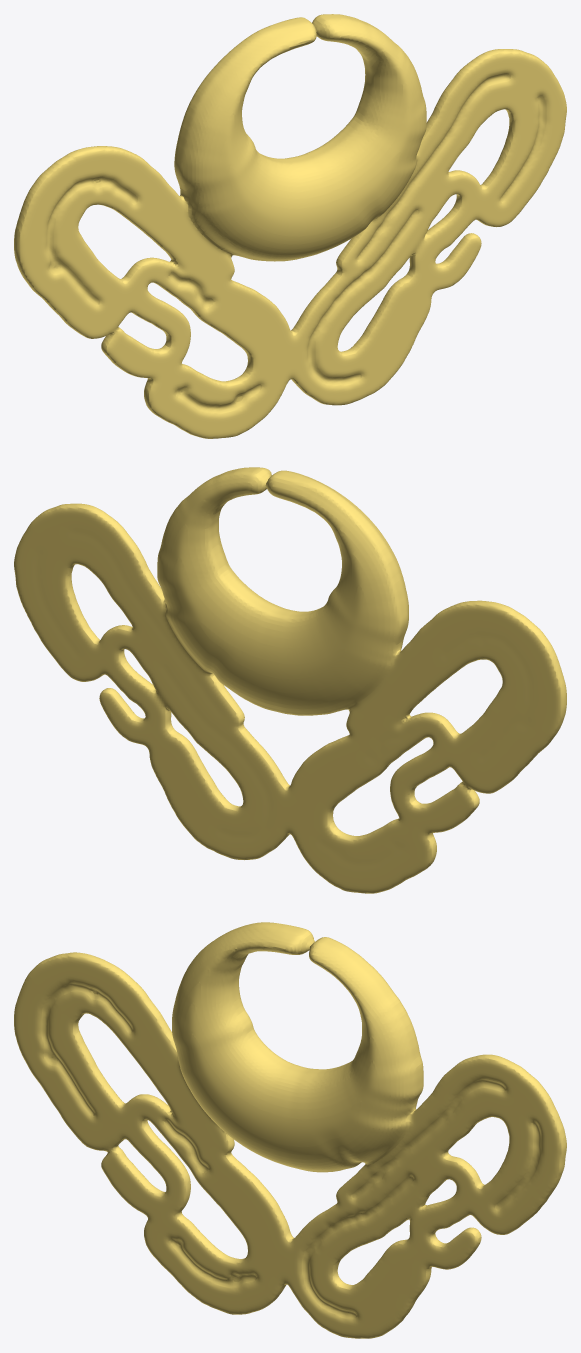
Rendered from nariguera_dorada.glb.
3 views of the same model, one above another, from view 1: azimuth 30°, elevation 25°; view 2: azimuth 150°, elevation 25°; view 3: azimuth 330°, elevation 25° (orthographic).
Visible parts, largest first — view 1: nariguera_dorada; view 2: nariguera_dorada; view 3: nariguera_dorada.
Part boxes in pixels (bbox=[...]): nariguera_dorada: bbox=[14, 14, 566, 438]; nariguera_dorada: bbox=[14, 467, 566, 893]; nariguera_dorada: bbox=[14, 922, 566, 1338].
Size of the model in its own units: 0.046 by 0.032 by 0.00459.
